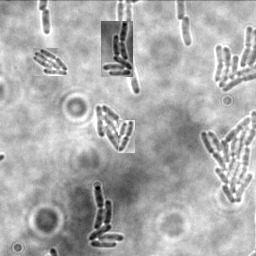Dividing: (123, 1, 142, 95), (118, 120, 135, 153), (41, 8, 52, 35)
Microcolony: (200, 109, 255, 205), (212, 25, 255, 94), (89, 184, 126, 248), (101, 21, 133, 77), (96, 103, 132, 150), (33, 48, 69, 76), (182, 16, 193, 48)
